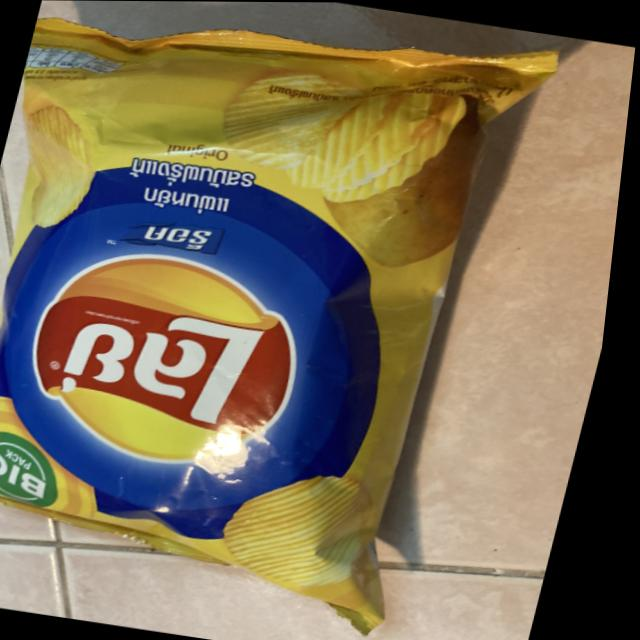LayYellow: (0, 0, 577, 636)
